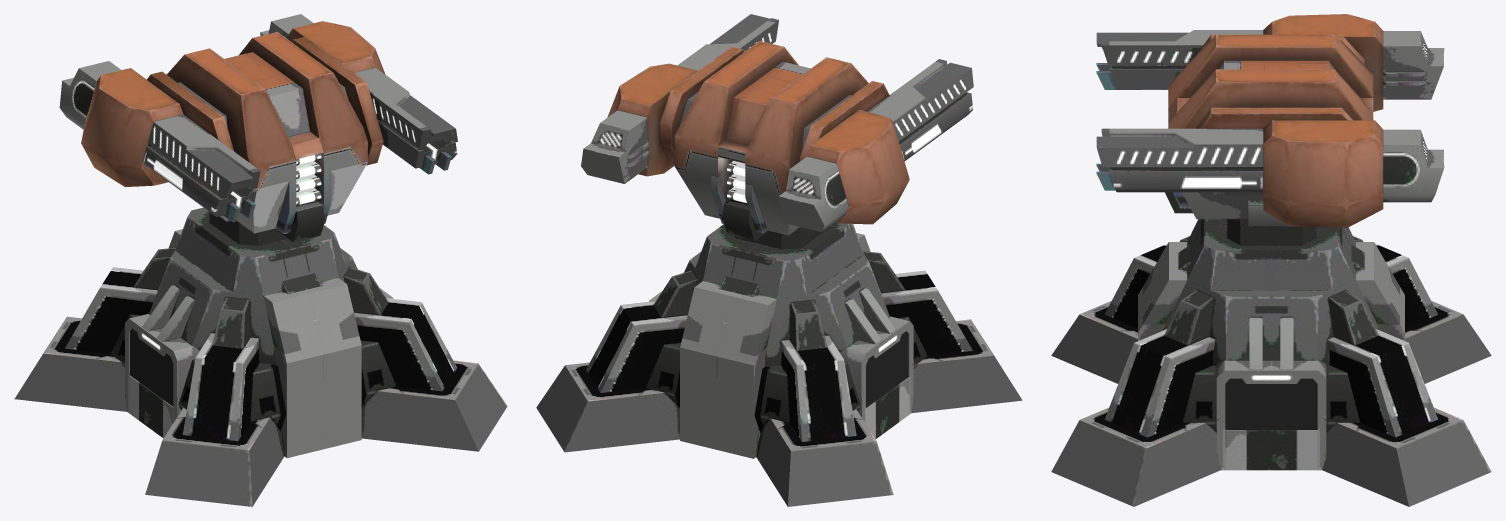
The picture shows the model from 3 angles, left to right: view 1: azimuth 30°, elevation 25°; view 2: azimuth 150°, elevation 25°; view 3: azimuth 270°, elevation 25°; orthographic projection. The views are drawn at different scales.
Visible parts, largest first — view 1: turret-gauss; view 2: turret-gauss; view 3: turret-gauss.
Boxes of the visible parts, box(x1,y1,x2,y2) form: turret-gauss: box(14, 14, 507, 506); turret-gauss: box(536, 14, 1022, 506); turret-gauss: box(1051, 14, 1491, 506).
Size of the model in its own units: 5.41 by 4.82 by 5.41.
3 materials, 1 textured.
